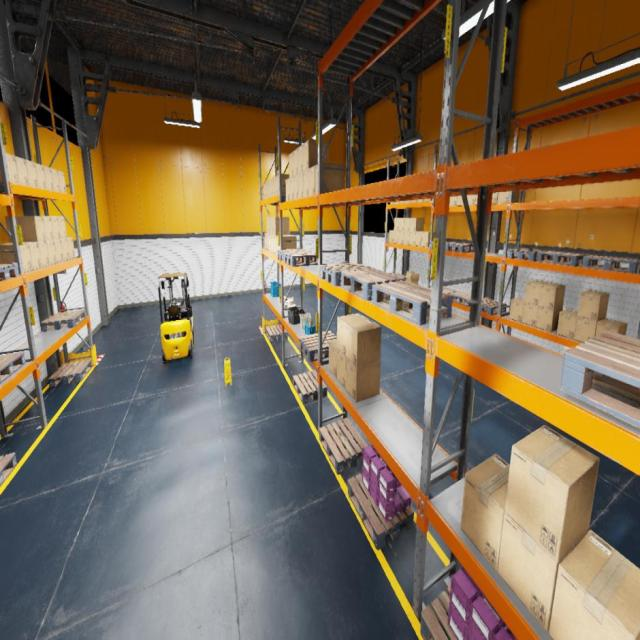box: (505, 425, 600, 562), (498, 511, 588, 631), (549, 530, 640, 639), (461, 454, 510, 571), (346, 319, 381, 368), (346, 358, 380, 402), (337, 313, 369, 357), (3, 242, 42, 270), (6, 216, 46, 242), (578, 289, 609, 321), (0, 243, 32, 272), (315, 162, 343, 195), (303, 139, 328, 171), (575, 316, 605, 342), (539, 283, 565, 310), (537, 306, 563, 332), (557, 308, 578, 339), (524, 280, 548, 306), (0, 152, 18, 183), (596, 319, 628, 336), (15, 156, 29, 186), (522, 303, 538, 327), (25, 159, 38, 188), (510, 297, 524, 323), (337, 350, 346, 390), (272, 217, 290, 235), (329, 338, 337, 378), (497, 190, 520, 203), (35, 163, 46, 190), (38, 241, 49, 268), (276, 235, 291, 254), (279, 235, 296, 250), (43, 217, 54, 240), (51, 167, 61, 192), (46, 240, 56, 265), (44, 166, 54, 190), (308, 166, 316, 196), (51, 217, 61, 240), (54, 239, 63, 263), (61, 238, 70, 261), (278, 174, 288, 194), (58, 216, 67, 238), (58, 170, 66, 193), (410, 218, 424, 231), (68, 237, 76, 259), (422, 232, 434, 246), (406, 272, 419, 284), (298, 144, 303, 174), (303, 169, 308, 197), (416, 232, 426, 246), (298, 172, 303, 199), (294, 148, 298, 176), (290, 152, 294, 178), (294, 174, 298, 200), (290, 177, 294, 201), (286, 178, 290, 201), (410, 231, 416, 246), (467, 195, 476, 205), (449, 196, 457, 206), (398, 231, 404, 244), (388, 230, 394, 243), (404, 218, 410, 231), (274, 176, 278, 195), (492, 192, 498, 204), (457, 196, 464, 206), (394, 230, 399, 243), (399, 218, 404, 231), (394, 217, 399, 230), (404, 232, 409, 244), (272, 177, 275, 196), (284, 302, 291, 310), (284, 297, 292, 304), (278, 296, 286, 303), (271, 235, 274, 252), (270, 217, 273, 234), (264, 233, 267, 249), (266, 234, 269, 249), (287, 304, 296, 308), (270, 179, 272, 197), (268, 181, 270, 198), (266, 182, 268, 199), (274, 236, 276, 253), (269, 234, 271, 251), (268, 217, 270, 234), (266, 217, 268, 234), (264, 183, 266, 199), (284, 298, 291, 302), (476, 195, 478, 205)
forklift: (158, 273, 194, 364)
pallets: (559, 331, 640, 428), (348, 473, 414, 550), (372, 280, 453, 325), (319, 418, 367, 474), (420, 585, 457, 639), (341, 269, 405, 300), (320, 262, 375, 286), (48, 359, 93, 387), (299, 331, 337, 361), (293, 370, 327, 403), (40, 309, 87, 332), (582, 255, 639, 273), (536, 251, 591, 266), (0, 352, 25, 383), (0, 452, 17, 487), (508, 248, 550, 261), (284, 251, 318, 266), (449, 291, 481, 306), (277, 249, 311, 262), (481, 298, 506, 315), (266, 324, 288, 341), (0, 264, 19, 281), (445, 243, 475, 252), (429, 286, 458, 294), (430, 241, 459, 249), (392, 273, 406, 281)
